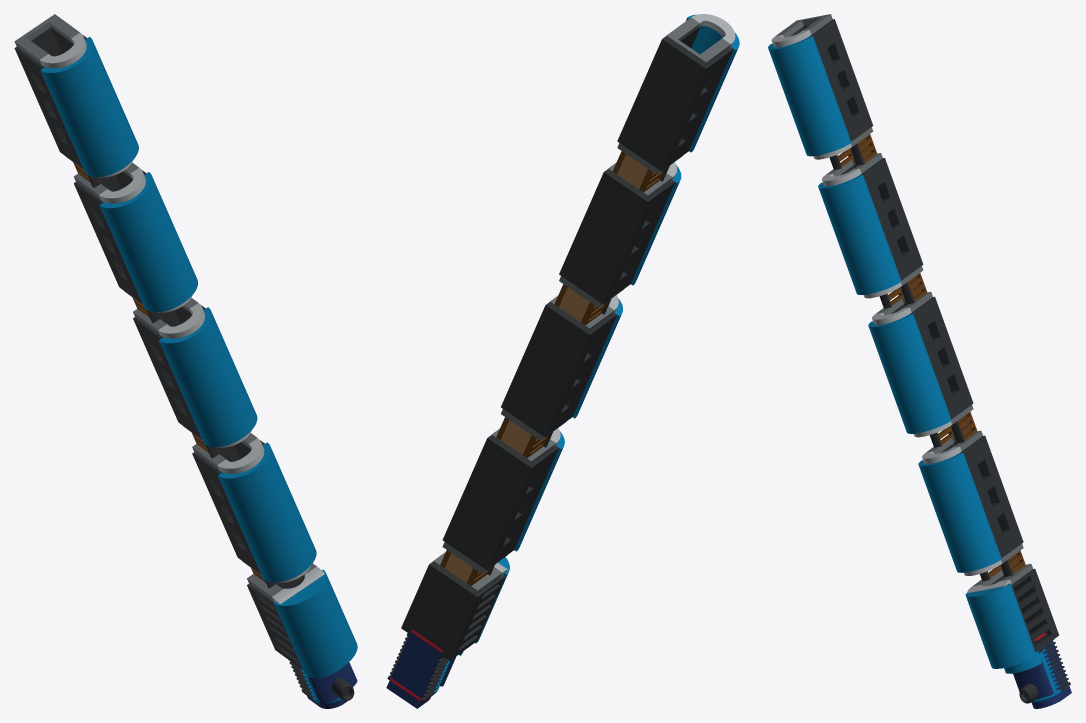
The model's file is tinker.obj.
3 renders of one model, left to right at view 1: azimuth 30°, elevation 25°; view 2: azimuth 150°, elevation 25°; view 3: azimuth 330°, elevation 25°, orthographic. The views are drawn at different scales.
Parts seen in each view (by area): view 1: group_0_30377, group_0_2829873, group_0_10988977, group_0_6383466, group_0_1650274; view 2: group_0_2829873, group_0_6383466, group_0_30377, group_0_1650274, group_0_11107152, group_0_6306067, group_0_10988977; view 3: group_0_30377, group_0_2829873, group_0_6383466, group_0_10988977, group_0_6306067, group_0_1650274.
Part boxes in pixels (bbox=[...]): group_0_30377: bbox=[40, 36, 357, 703]; group_0_2829873: bbox=[14, 27, 354, 700]; group_0_10988977: bbox=[40, 32, 324, 604]; group_0_6383466: bbox=[14, 14, 316, 601]; group_0_1650274: bbox=[307, 662, 357, 708]; group_0_2829873: bbox=[387, 27, 733, 702]; group_0_6383466: bbox=[431, 17, 730, 595]; group_0_30377: bbox=[434, 14, 739, 693]; group_0_1650274: bbox=[386, 632, 455, 708]; group_0_11107152: bbox=[445, 154, 647, 582]; group_0_6306067: bbox=[440, 151, 664, 585]; group_0_10988977: bbox=[494, 14, 735, 577]; group_0_30377: bbox=[768, 36, 1060, 702]; group_0_2829873: bbox=[790, 19, 1070, 703]; group_0_6383466: bbox=[776, 14, 1032, 586]; group_0_10988977: bbox=[771, 29, 1011, 593]; group_0_6306067: bbox=[837, 134, 1025, 577]; group_0_1650274: bbox=[1013, 640, 1071, 708].
Size of the model in its own units: 153 by 333 by 34.
